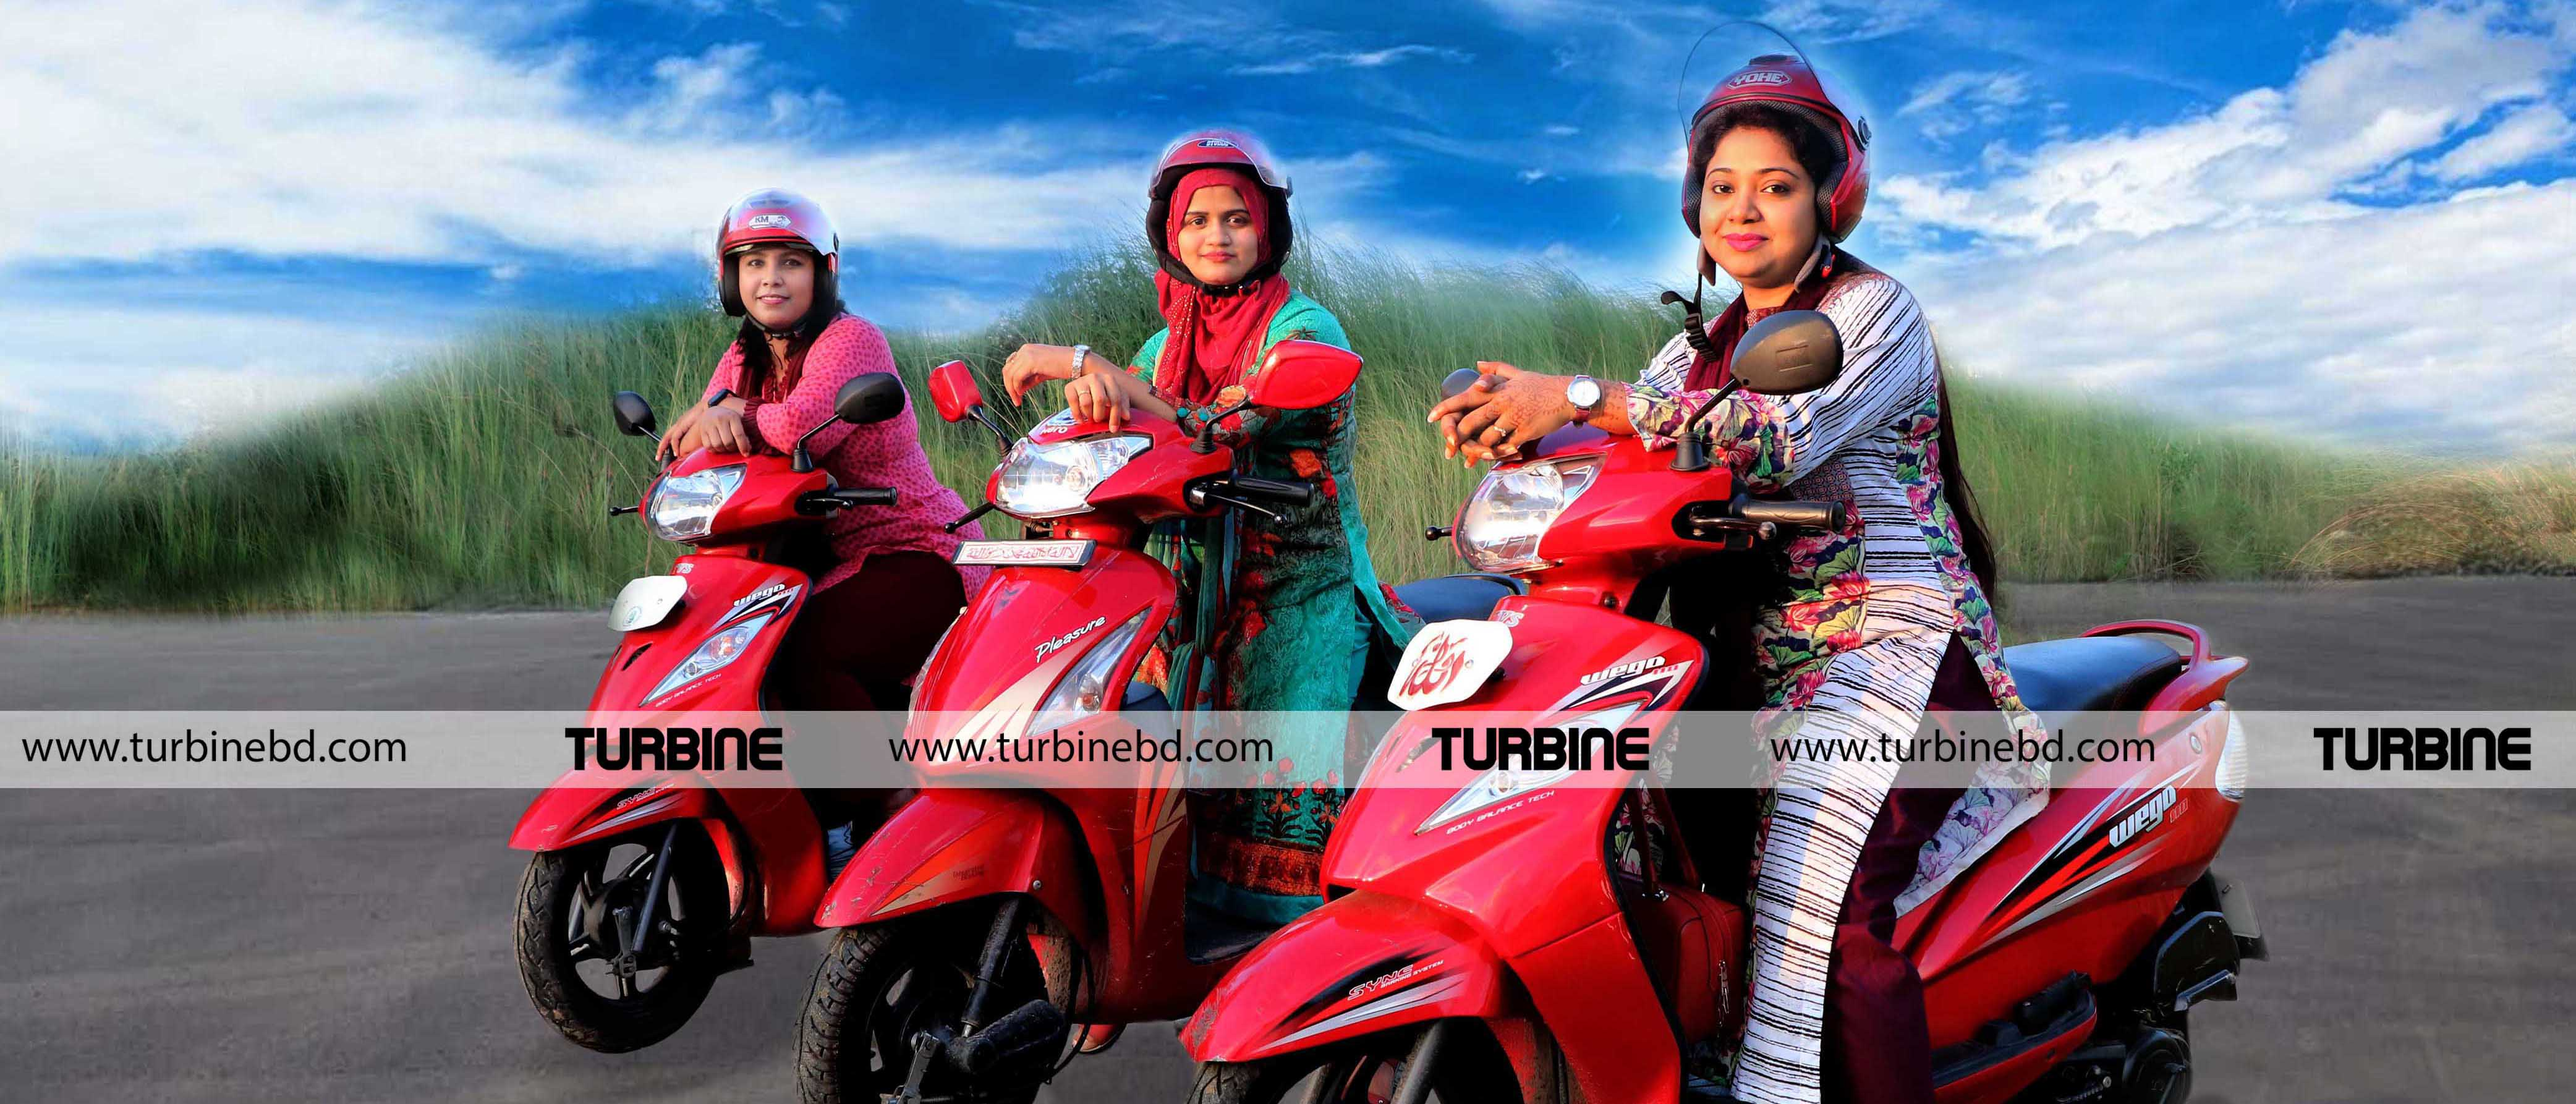scooter: (1183, 306, 2274, 1104), (789, 335, 1531, 1104), (514, 366, 969, 1055)
